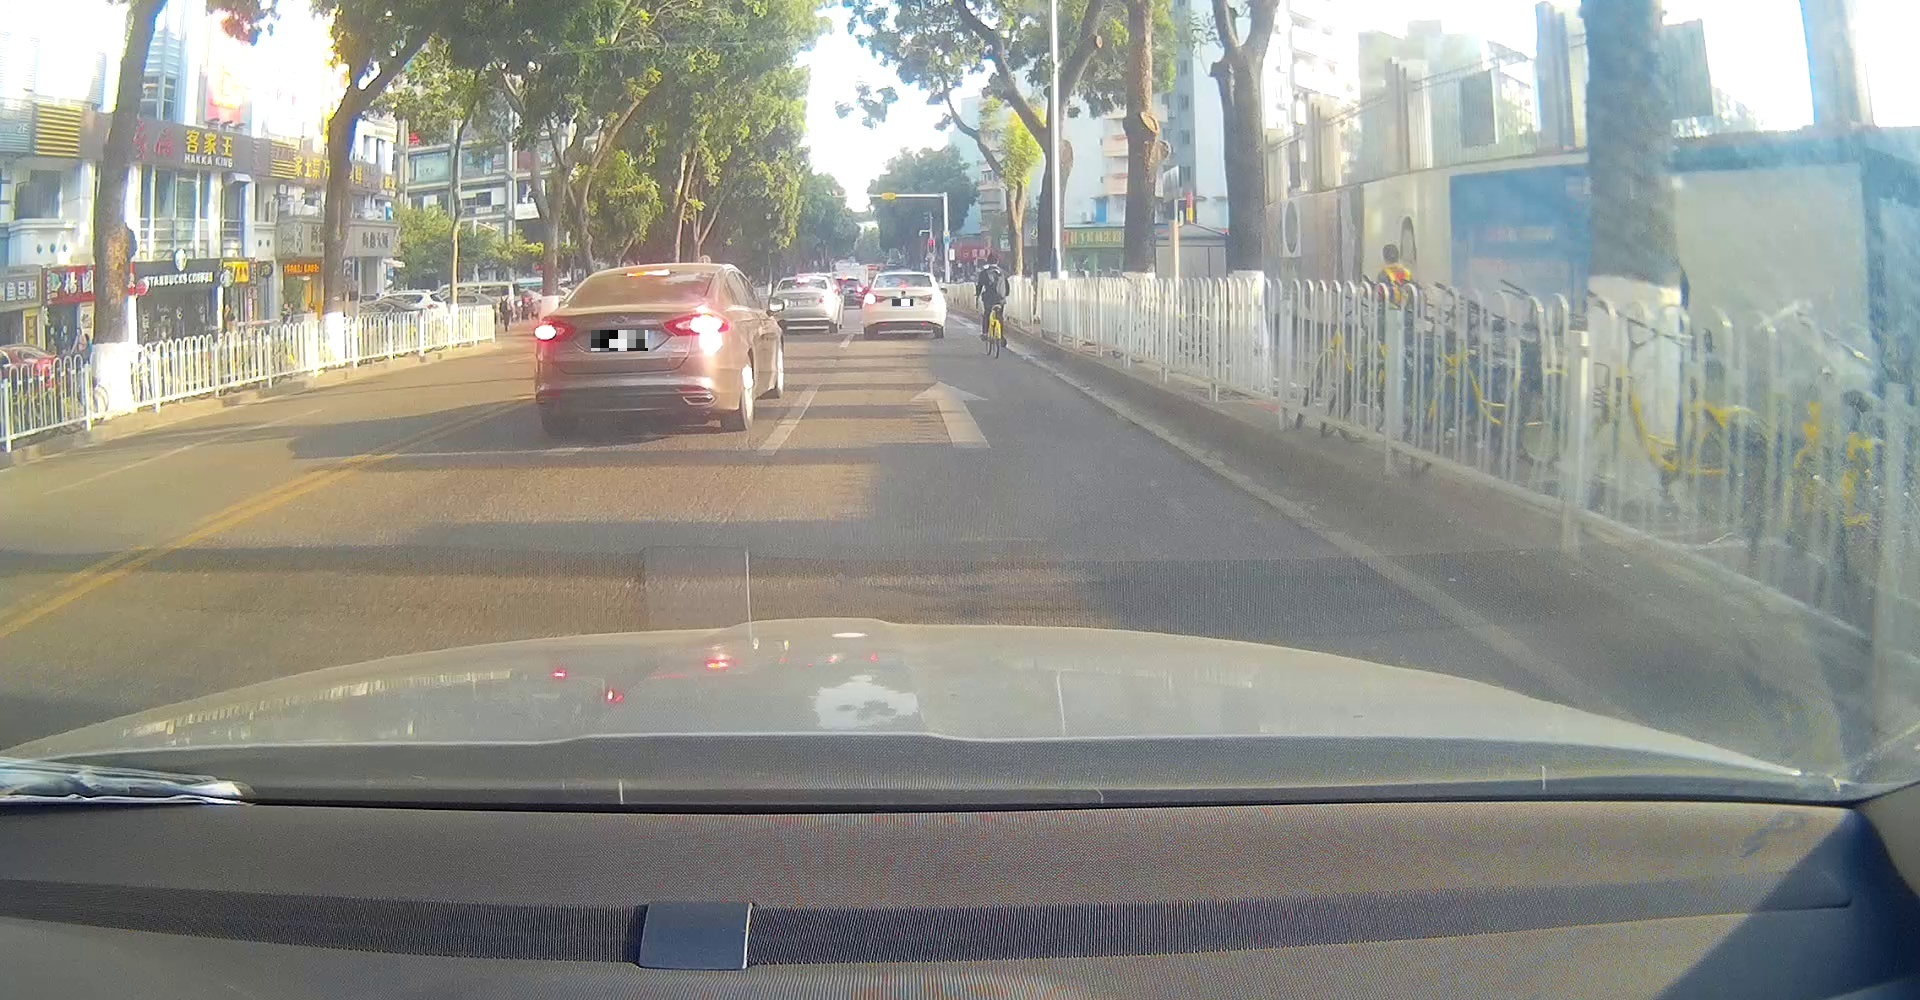L_light: (535, 319, 577, 343)
R_light: (663, 311, 729, 338), (931, 293, 945, 303)
T_light: (625, 269, 669, 277), (863, 292, 877, 305), (899, 286, 909, 288)
day-brake: (532, 261, 731, 437), (863, 272, 946, 338)
plate_1: (590, 330, 648, 352)
plate_2: (891, 299, 913, 306)
